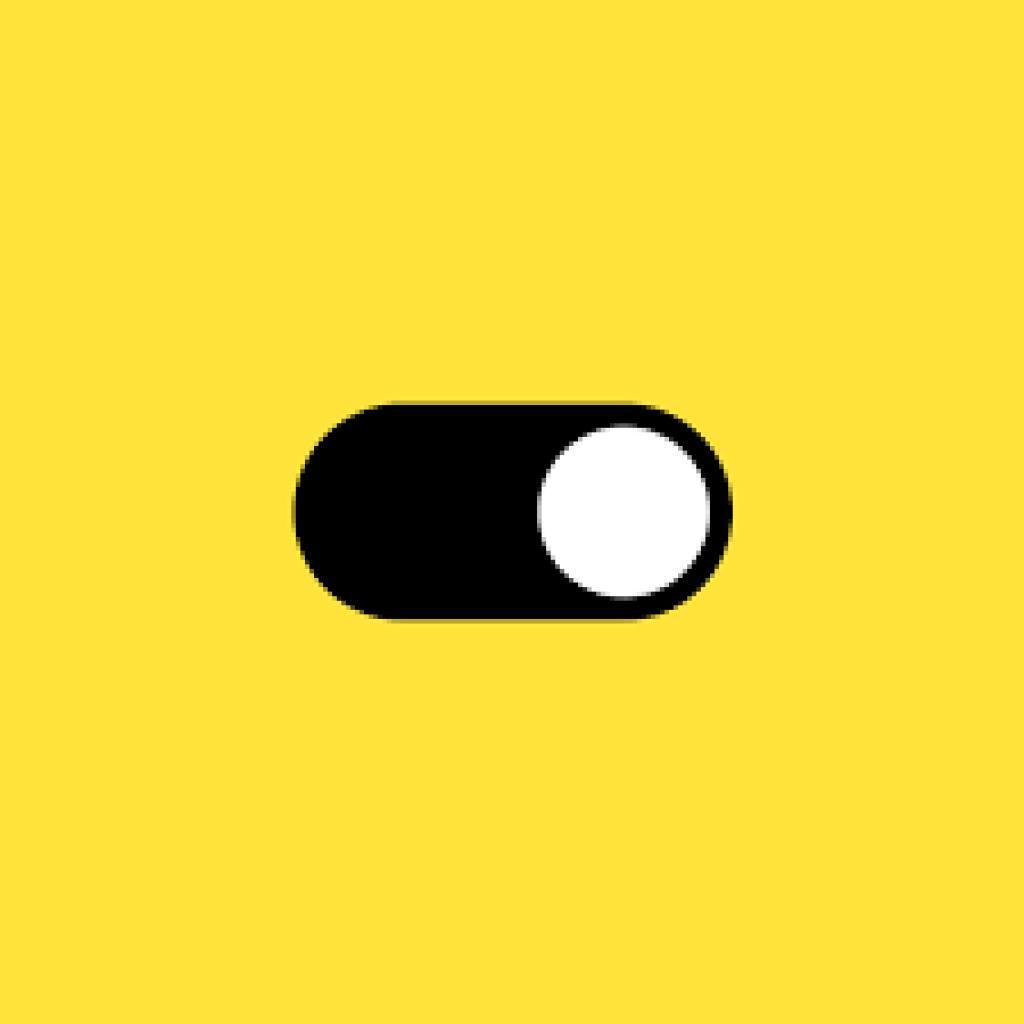switch: (290, 400, 735, 624)
